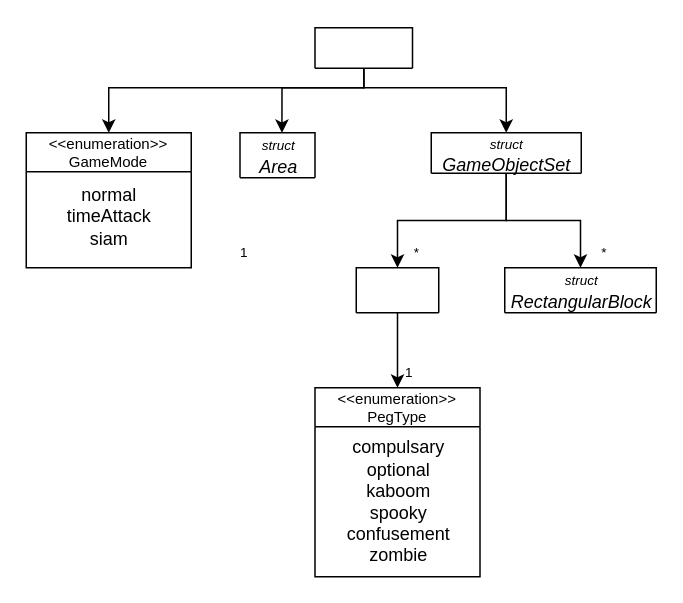
This 683x603 diagram has some shape labels left out. The centre of each missing label's shape, as x and y in pixels:
"struct Level" goes at pixel 363 47.
"struct Peg" goes at pixel 397 289.
